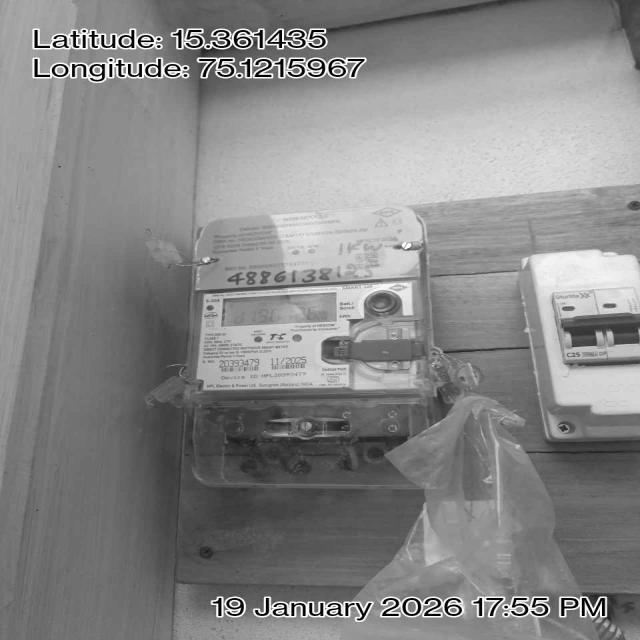meter: (196, 208, 431, 397)
